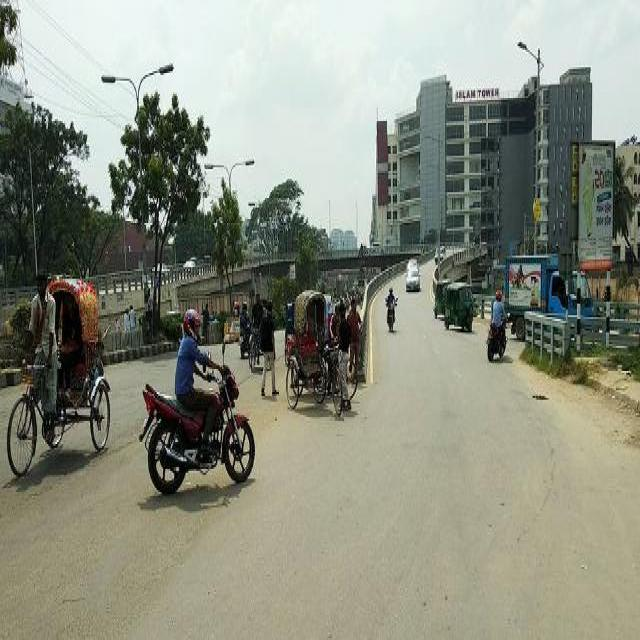bike: (138, 306, 256, 506), (483, 290, 512, 365), (383, 283, 398, 333)
vehicle: (6, 261, 112, 486), (283, 279, 347, 421), (504, 249, 596, 339), (442, 280, 475, 332)
